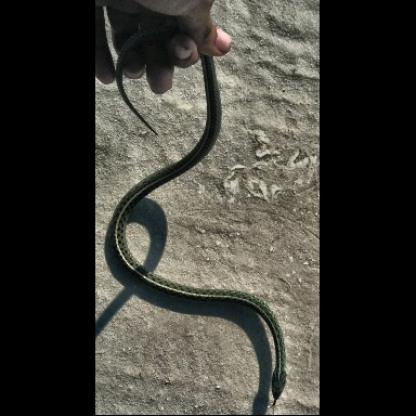Snake: (109, 29, 289, 406)
